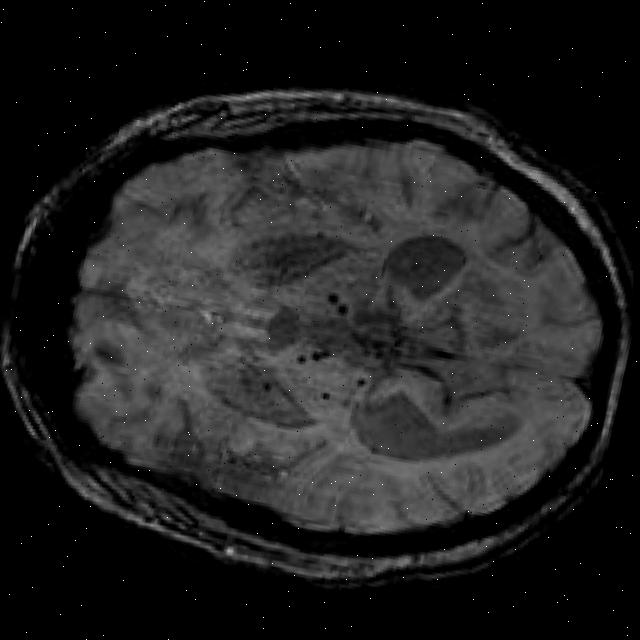NoTumor: (0, 24, 639, 638)
